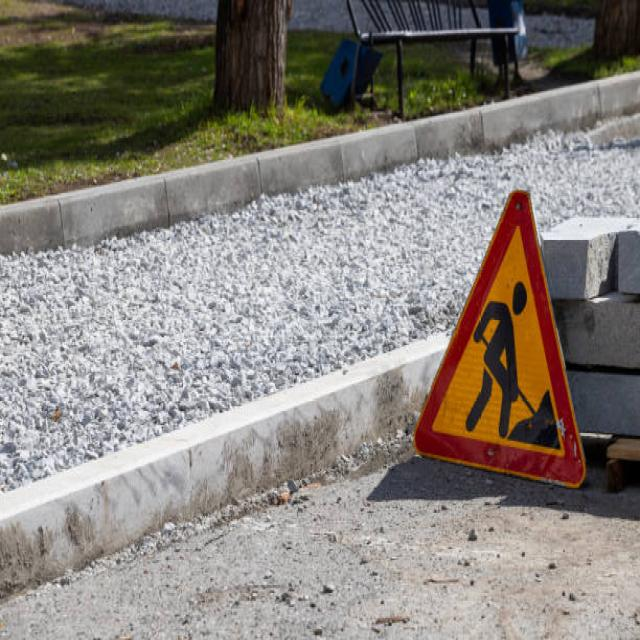road_work: (414, 182, 590, 498)
